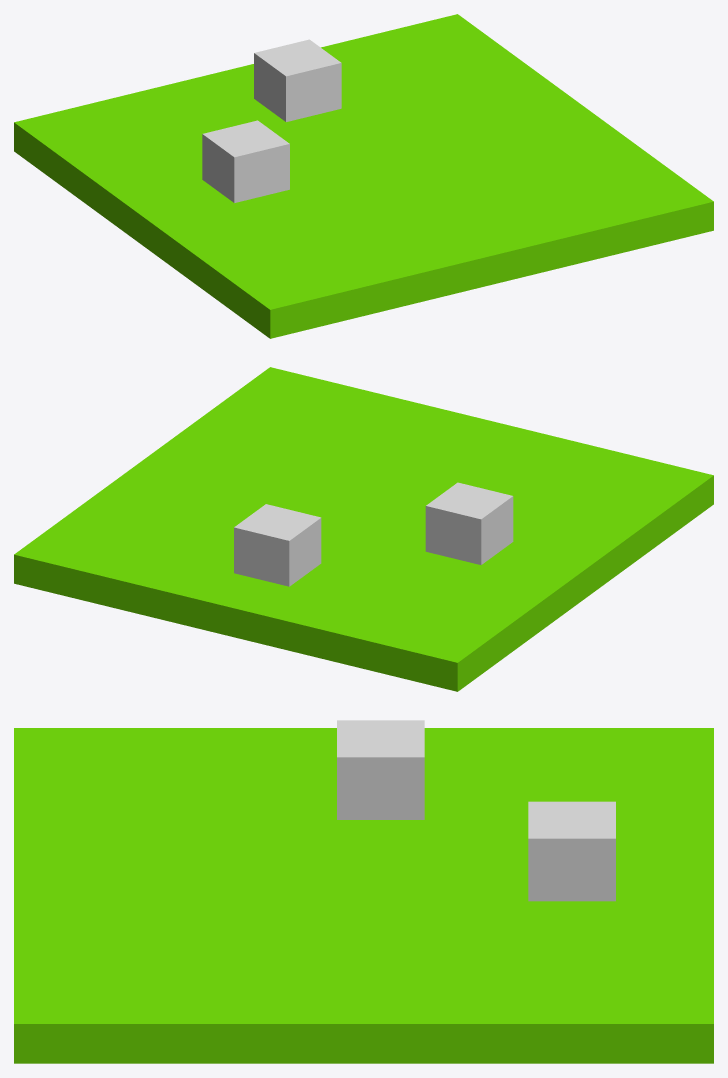
Rendered from BlockTypeMiddle-2.fbx.
3 renders of one model, top to bottom at view 1: azimuth 30°, elevation 25°; view 2: azimuth 150°, elevation 25°; view 3: azimuth 270°, elevation 25°, orthographic. The views are drawn at different scales.
Parts seen in each view (by area): view 1: Cube, Cube.002, Cube.003; view 2: Cube, Cube.003, Cube.002; view 3: Cube, Cube.002, Cube.003.
Boxes of the visible parts, left/top/right/bottom form: Cube: left=14, top=14, right=713, bottom=338; Cube.002: left=254, top=39, right=341, bottom=121; Cube.003: left=202, top=120, right=289, bottom=202; Cube: left=14, top=367, right=713, bottom=691; Cube.003: left=425, top=482, right=513, bottom=564; Cube.002: left=234, top=504, right=321, bottom=586; Cube: left=14, top=728, right=713, bottom=1063; Cube.002: left=528, top=801, right=615, bottom=901; Cube.003: left=337, top=720, right=424, bottom=819.
Size of the model in its own units: 800 by 129 by 800.
